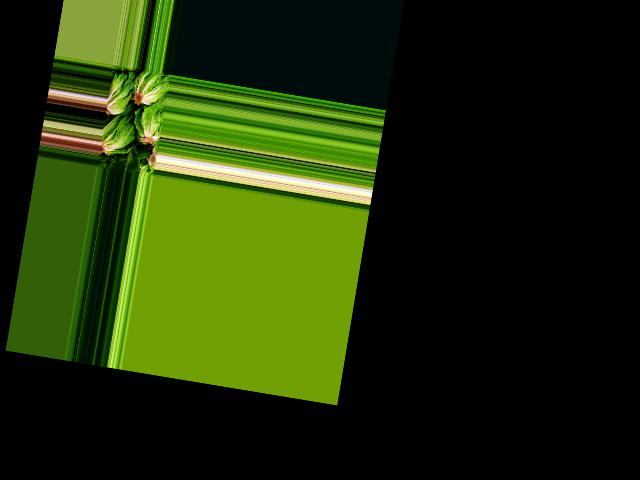lettuce: (115, 146, 143, 175)
